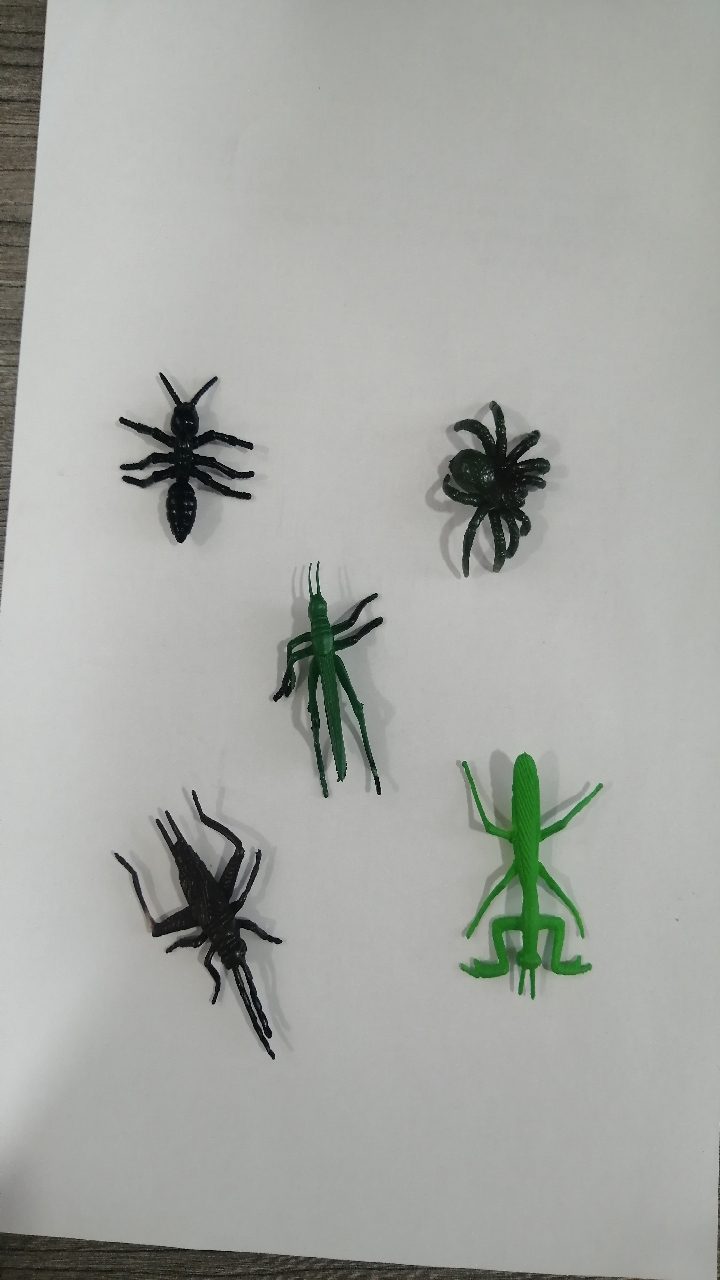intruso: (97, 762, 317, 1085), (434, 714, 618, 1057), (231, 549, 408, 817), (91, 337, 260, 568), (392, 382, 568, 592)
